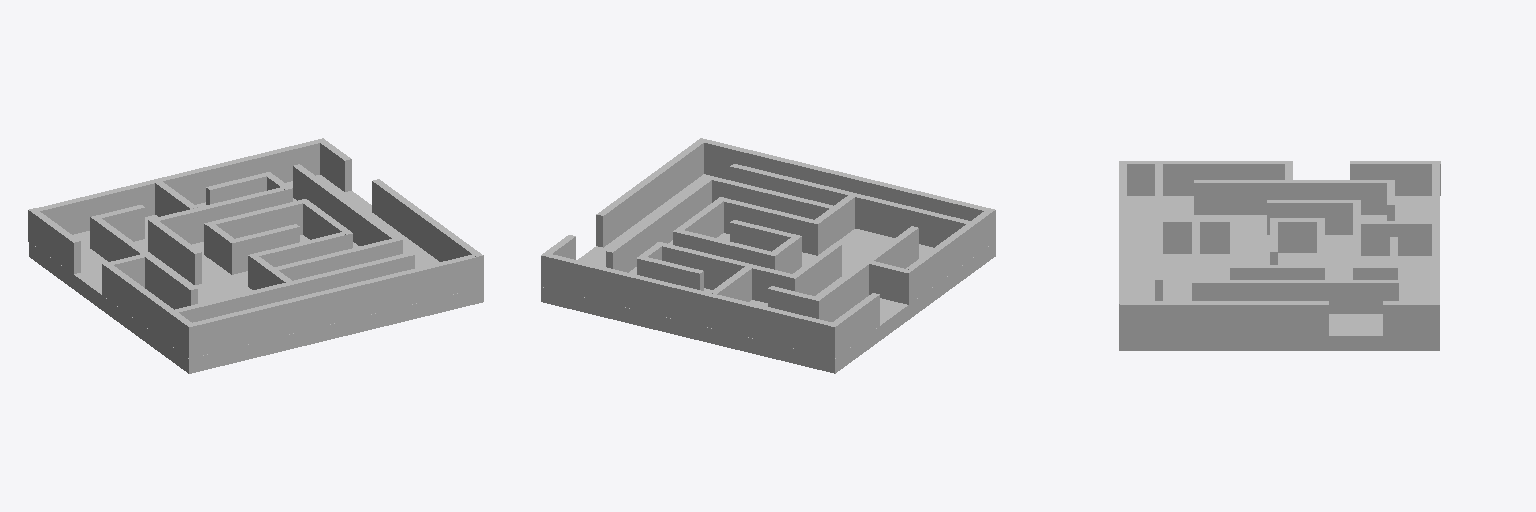
The model's file is maze.obj.
3 renders of one model, left to right at view 1: azimuth 30°, elevation 25°; view 2: azimuth 150°, elevation 25°; view 3: azimuth 270°, elevation 25°, orthographic.
Parts seen in each view (by area): view 1: Cube.001, Cube.007, Cube.008, Cube.011, Cube.004, Cube.006, Cube.009, Cube.022, Cube.014, Cube.019, Cube.021, Cube.002 (+11 smaller); view 2: Cube.008, Cube.001, Cube.007, Cube.011, Cube.004, Cube.022, Cube.006, Cube.009, Cube.014, Cube.016, Cube.021, Cube.002 (+10 smaller); view 3: Cube.001, Cube.004, Cube.009, Cube.022, Cube.006, Cube.012, Cube.002, Cube.015, Cube.013, Cube.003, Cube.017, Cube.020 (+5 smaller).
Part boxes in pixels (bbox=[...]): Cube.001: bbox=[29, 175, 483, 373]; Cube.007: bbox=[193, 254, 482, 356]; Cube.008: bbox=[36, 140, 319, 234]; Cube.011: bbox=[175, 252, 414, 322]; Cube.004: bbox=[372, 179, 483, 286]; Cube.006: bbox=[106, 265, 195, 358]; Cube.009: bbox=[90, 215, 197, 309]; Cube.022: bbox=[293, 164, 402, 254]; Cube.014: bbox=[148, 185, 292, 253]; Cube.019: bbox=[204, 199, 306, 257]; Cube.021: bbox=[274, 239, 395, 280]; Cube.002: bbox=[28, 208, 80, 273]; Cube.008: bbox=[541, 254, 831, 356]; Cube.001: bbox=[541, 174, 995, 373]; Cube.007: bbox=[704, 140, 987, 220]; Cube.011: bbox=[730, 164, 969, 247]; Cube.004: bbox=[596, 138, 706, 247]; Cube.022: bbox=[606, 175, 714, 272]; Cube.006: bbox=[906, 208, 995, 300]; Cube.009: bbox=[812, 226, 918, 321]; Cube.014: bbox=[657, 242, 798, 302]; Cube.016: bbox=[724, 199, 821, 255]; Cube.021: bbox=[712, 177, 832, 219]; Cube.002: bbox=[828, 293, 879, 358]; Cube.001: bbox=[1119, 196, 1439, 350]; Cube.004: bbox=[1120, 301, 1328, 335]; Cube.009: bbox=[1194, 180, 1394, 214]; Cube.022: bbox=[1192, 280, 1398, 313]; Cube.006: bbox=[1119, 161, 1284, 195]; Cube.012: bbox=[1361, 221, 1431, 255]; Cube.002: bbox=[1350, 161, 1440, 195]; Cube.015: bbox=[1163, 219, 1229, 253]; Cube.013: bbox=[1267, 200, 1352, 234]; Cube.003: bbox=[1383, 301, 1439, 335]; Cube.017: bbox=[1270, 218, 1316, 252]; Cube.020: bbox=[1230, 265, 1320, 279].
Size of the model in its own units: 58.45 by 8.84 by 55.28.